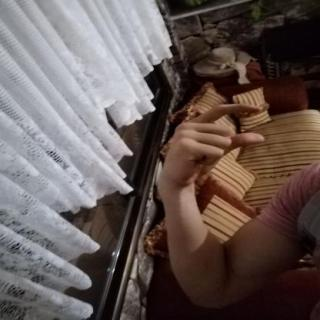DELL: (154, 98, 278, 193)
